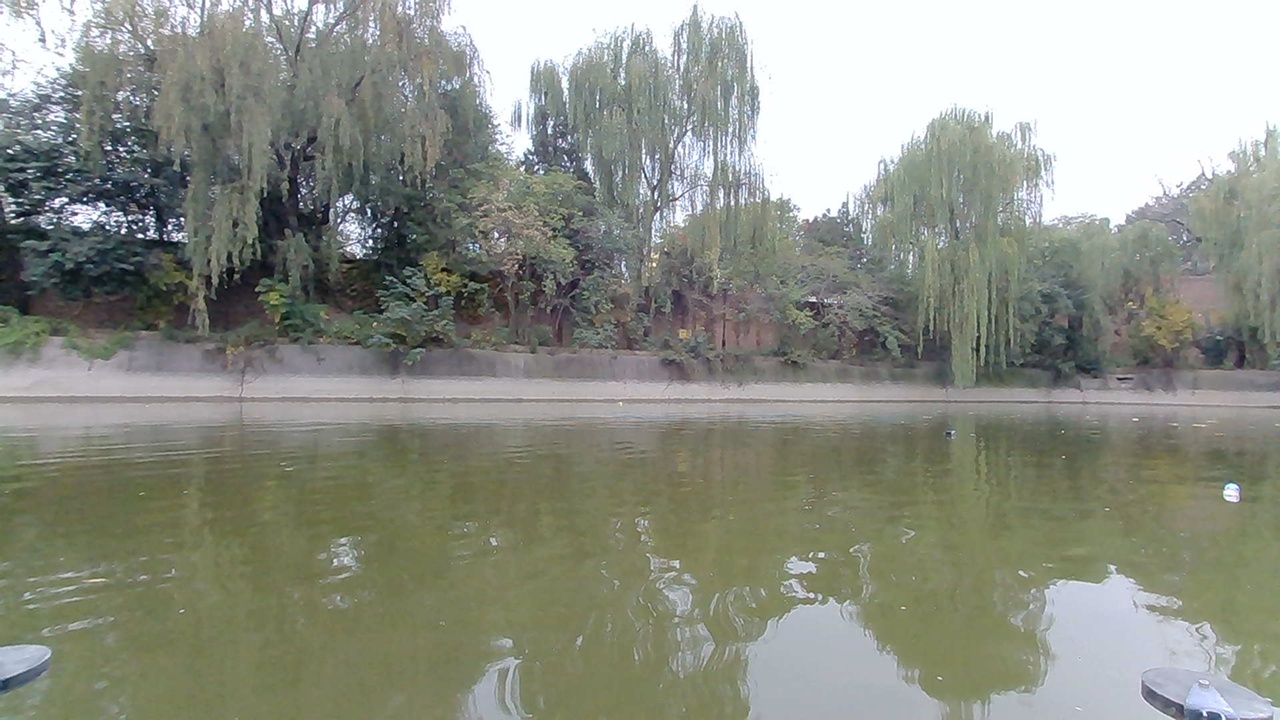bottle: (1215, 477, 1254, 506), (942, 422, 970, 448)
